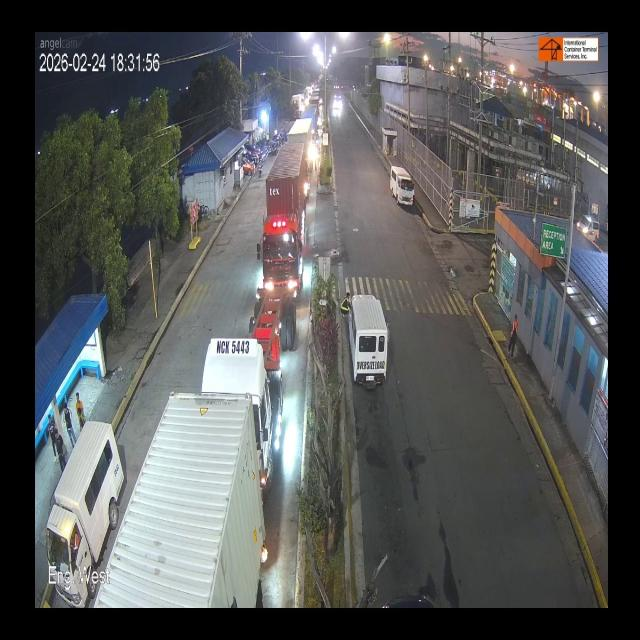car: (44, 434, 104, 598), (341, 286, 391, 390), (388, 162, 412, 207)
truck: (88, 386, 274, 604), (200, 292, 306, 490), (258, 144, 315, 289), (286, 113, 318, 169)
